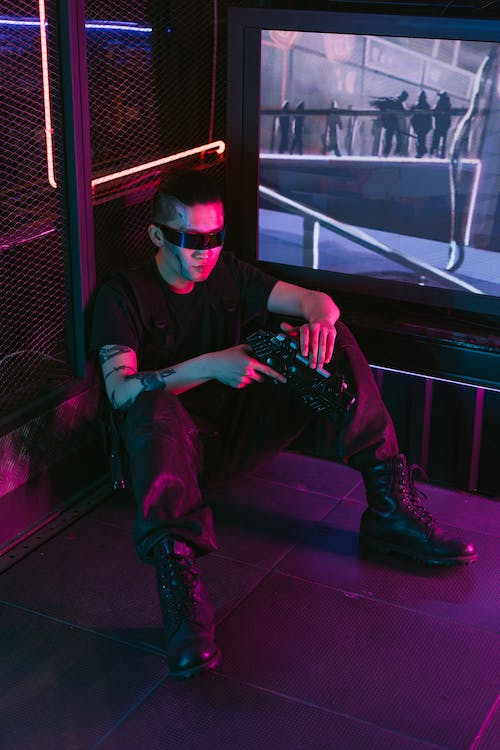gun: (244, 324, 358, 417)
